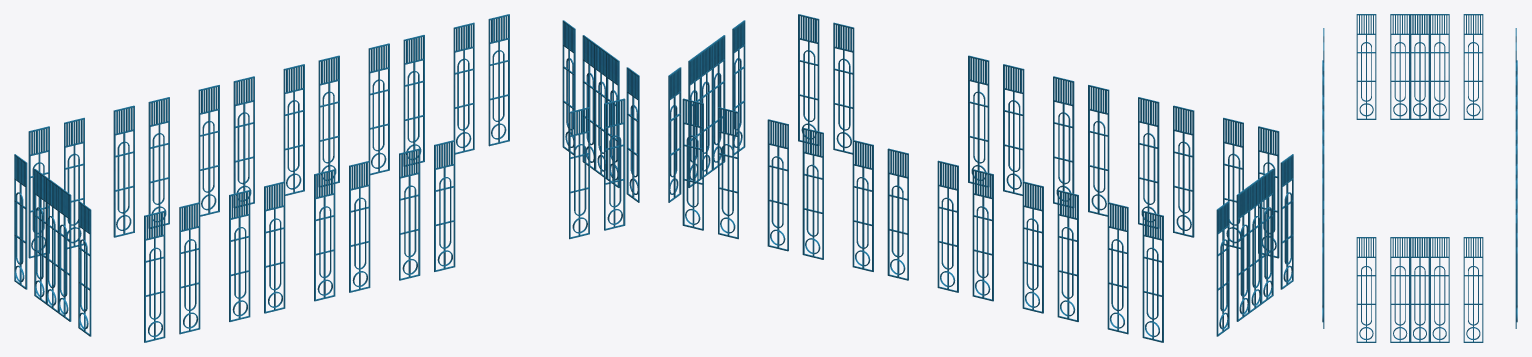
The model's file is Scene0_Grill.FBX.
The picture shows the model from 3 angles, left to right: view 1: azimuth 30°, elevation 25°; view 2: azimuth 150°, elevation 25°; view 3: azimuth 270°, elevation 25°; orthographic projection. The views are drawn at different scales.
Parts seen in each view (by area): view 1: Layer0_001, Group_001, Group_005, Group_015, Group_017, Group_016; view 2: Layer0_001, Group_005, Group_001, Group_016, Group_017, Group_015; view 3: Layer0_001, Group_017, Group_001, Group_005, Group_016, Group_015.
Boxes of the visible parts, box(x1,y1,x2,y2) form: Layer0_001: box(14, 14, 625, 342); Group_001: box(626, 67, 639, 202); Group_005: box(562, 20, 575, 155); Group_015: box(606, 52, 619, 187); Group_017: box(594, 43, 607, 179); Group_016: box(582, 35, 595, 170); Layer0_001: box(682, 14, 1293, 342); Group_005: box(668, 67, 681, 202); Group_001: box(732, 20, 745, 155); Group_016: box(688, 52, 701, 187); Group_017: box(700, 43, 713, 179); Group_015: box(712, 35, 725, 170); Layer0_001: box(1322, 14, 1517, 328); Group_017: box(1410, 237, 1429, 342); Group_001: box(1356, 237, 1376, 342); Group_005: box(1463, 237, 1483, 342); Group_016: box(1430, 237, 1449, 342); Group_015: box(1390, 237, 1409, 342).
Size of the model in its own units: 29.28 by 6.43 by 10.78.
